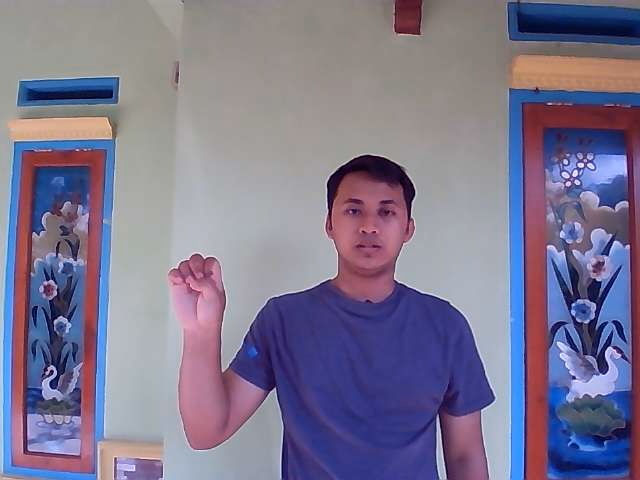E: (167, 248, 229, 323)
